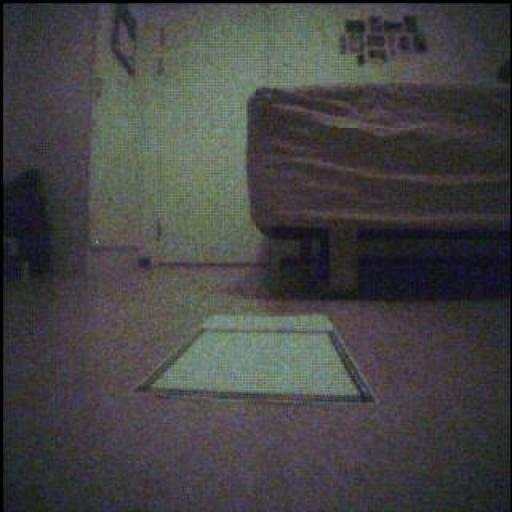pad: (139, 316, 374, 404)
